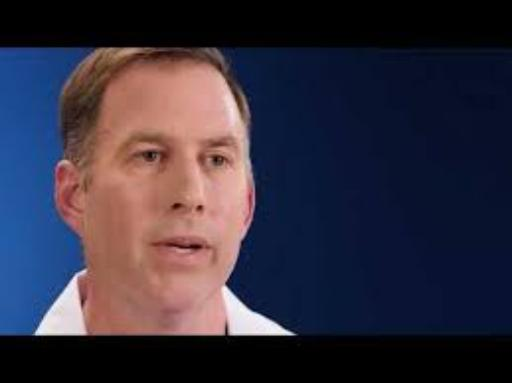left_eye: (197, 153, 234, 171)
left_lip_corner: (202, 243, 219, 256)
right_eye: (128, 148, 170, 167)
right_lip_corner: (143, 239, 164, 253)
